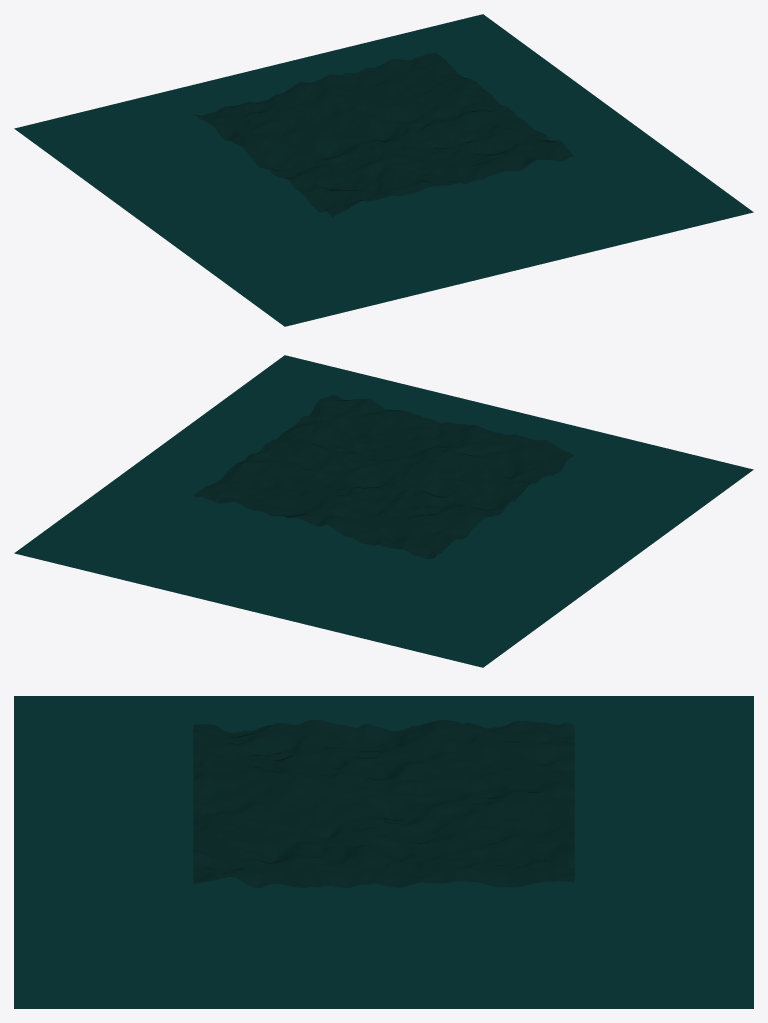
File: Badwater.glb
3 views of the same model, one above another, from view 1: azimuth 30°, elevation 25°; view 2: azimuth 150°, elevation 25°; view 3: azimuth 270°, elevation 25° (orthographic). The views are drawn at different scales.
Visible parts, largest first — view 1: Plane, Plane.001; view 2: Plane, Plane.001; view 3: Plane, Plane.001.
Part boxes in pixels (x1,y1,x2,y2): Plane: (14,14,753,326); Plane.001: (194,53,574,217); Plane: (14,355,753,667); Plane.001: (193,395,574,558); Plane: (14,696,753,1008); Plane.001: (193,720,574,888).
Bounding box in the file's own units: 3.88 × 0.3435 × 3.88.
